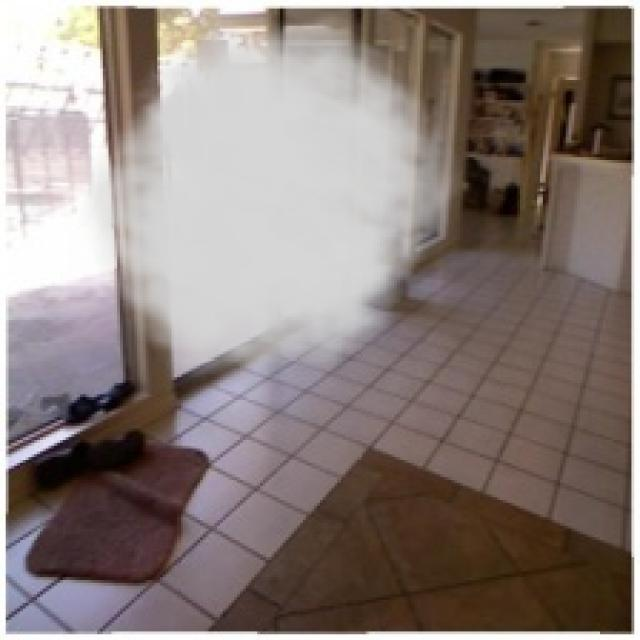smoke: (69, 12, 468, 394)
